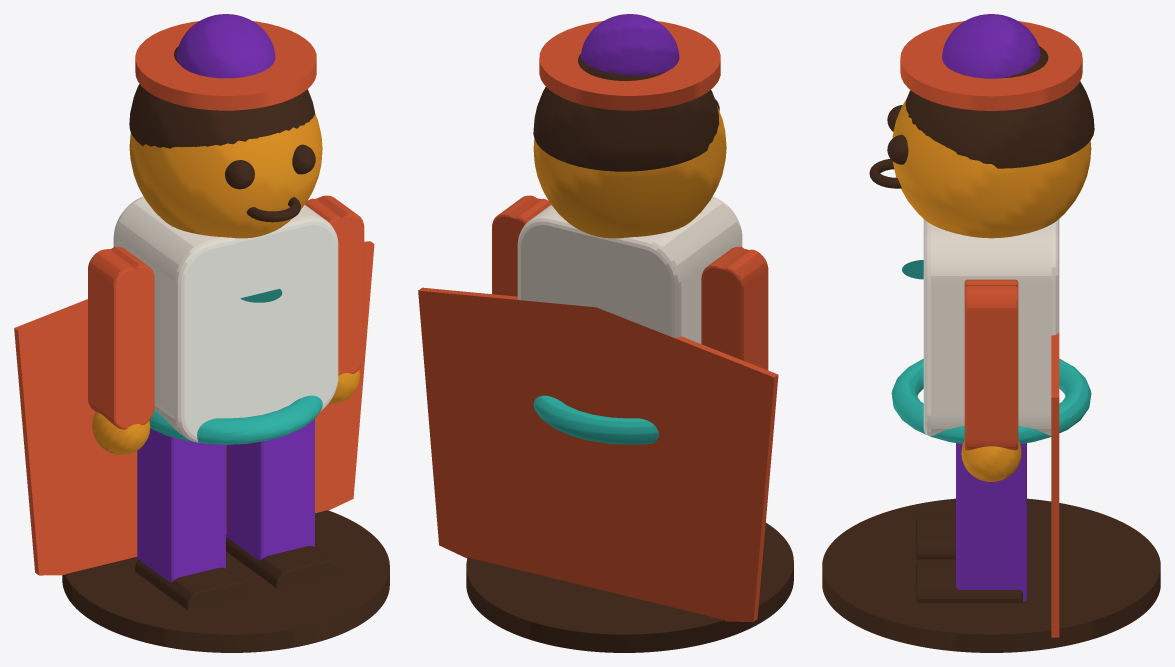
Rendered from 0688_《史记》_沛公刘邦.glb.
The picture shows the model from 3 angles, left to right: view 1: azimuth 30°, elevation 25°; view 2: azimuth 150°, elevation 25°; view 3: azimuth 270°, elevation 25°; orthographic projection.
Parts seen in each view (by area): view 1: card_0688; view 2: card_0688; view 3: card_0688.
Boxes of the visible parts, <box> form: card_0688: <box>14,14,389,652</box>; card_0688: <box>418,14,793,652</box>; card_0688: <box>822,14,1160,652</box>.
Bounding box in the file's own units: 0.6479 × 1 × 0.5314.
